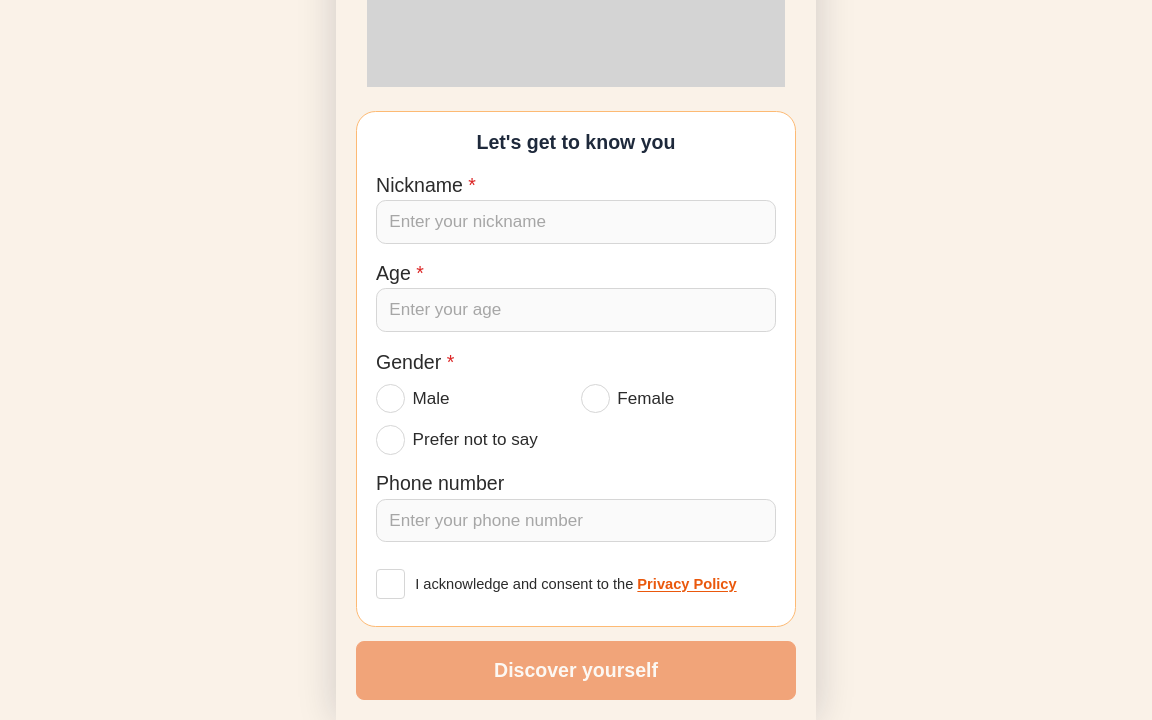
Test: RegisterScreen › renders the registration flow and privacy policy in English
(page scrolled)
Expected: the field with placeholder "Enter your nickname" is shown, [376, 200, 776, 244]
Expected: the radio button labelled "Prefer not to say" is shown, [376, 425, 405, 455]
Click the button "Privacy Policy" at (687, 584), box [637, 574, 737, 594]
(page scrolled)
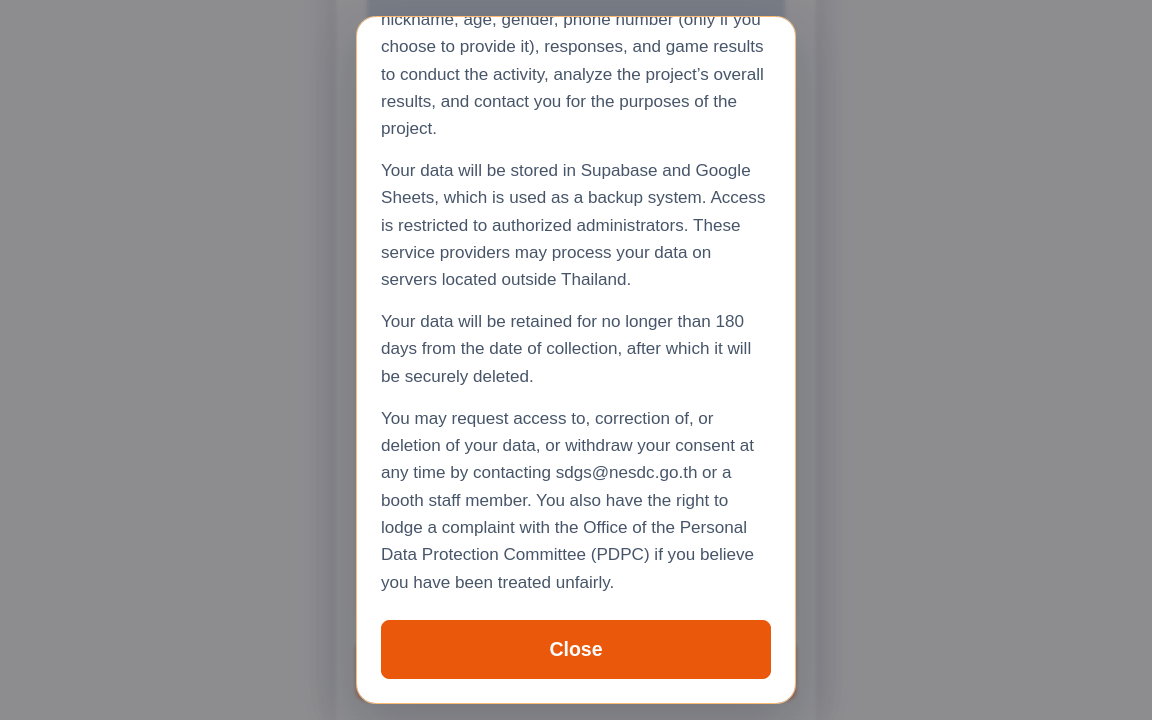
Expected: the dialog "Privacy Policy" is shown, [356, 16, 796, 704]
Expected: the text "stored in Supabase and Google Sheets" is shown, [381, 161, 766, 289]
Expected: the text "no longer than 180 days" is shown, [381, 312, 751, 386]
